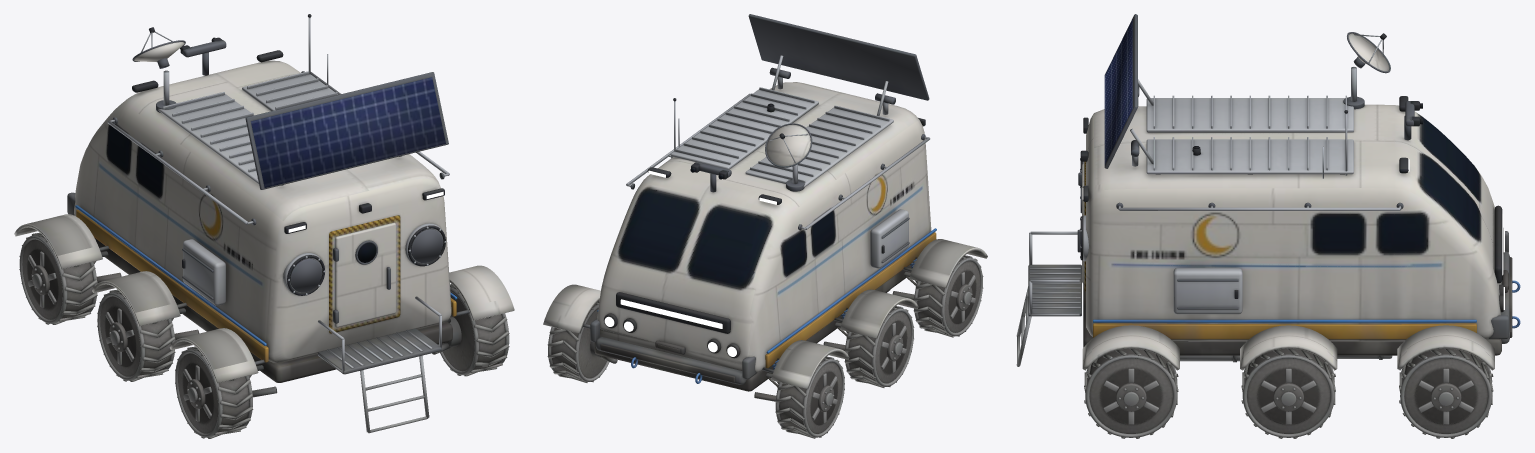
File: rover-crew.glb
3 renders of one model, left to right at view 1: azimuth 30°, elevation 25°; view 2: azimuth 150°, elevation 25°; view 3: azimuth 270°, elevation 25°, orthographic. The views are drawn at different scales.
Visible parts, largest first — view 1: Body, Wheel_RL, Wheel_FL, Wheel_ML, Wheel_RR; view 2: Body, Wheel_FL, Wheel_RL, Wheel_ML, Wheel_FR; view 3: Body, Wheel_RR, Wheel_MR, Wheel_FR.
Part boxes in pixels (<box>): Body: <box>14,14,514,433</box>; Wheel_RL: <box>175,346,253,438</box>; Wheel_FL: <box>19,232,97,324</box>; Wheel_ML: <box>97,289,175,381</box>; Wheel_RR: <box>438,284,509,376</box>; Body: <box>543,14,987,401</box>; Wheel_FL: <box>775,356,844,438</box>; Wheel_RL: <box>913,255,983,337</box>; Wheel_ML: <box>844,306,914,387</box>; Wheel_FR: <box>547,301,609,382</box>; Body: <box>1016,14,1520,370</box>; Wheel_RR: <box>1084,348,1178,438</box>; Wheel_MR: <box>1241,348,1335,438</box>; Wheel_FR: <box>1399,348,1493,438</box>.
Size of the model in its own units: 4.58 by 4.43 by 6.56.
Materials: 2 (1 with a texture image).
